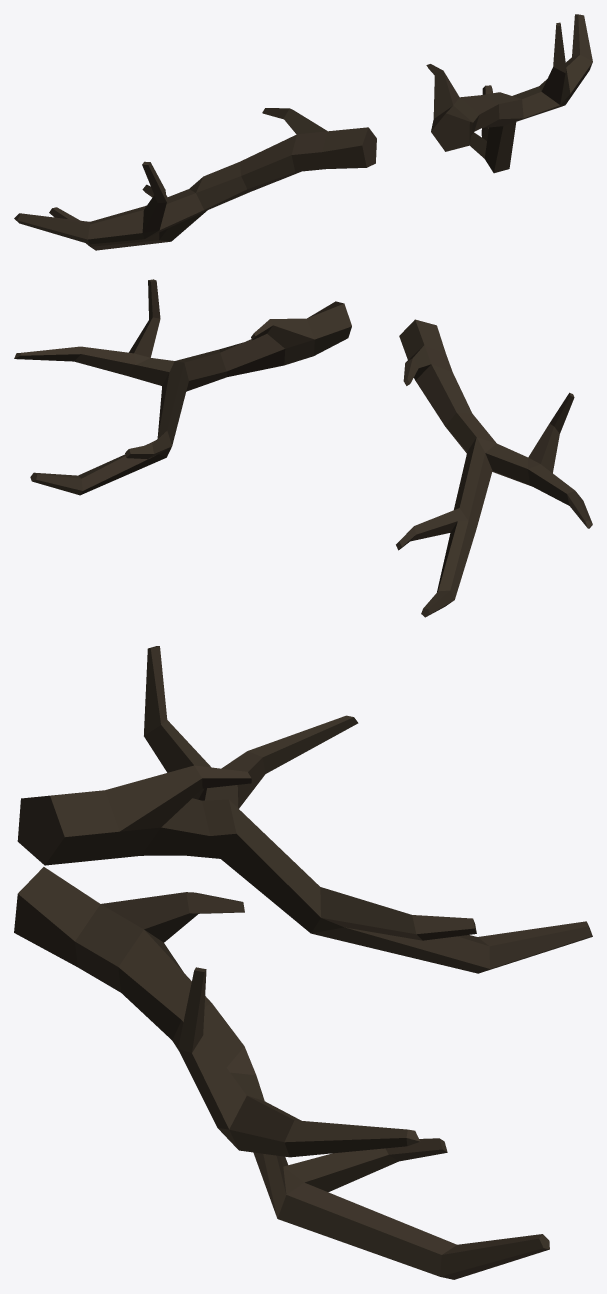
File: Horned_01.fbx
The picture shows the model from 3 angles, top to bottom: view 1: azimuth 30°, elevation 25°; view 2: azimuth 150°, elevation 25°; view 3: azimuth 270°, elevation 25°; orthographic projection. The views are drawn at different scales.
Visible parts, largest first — view 1: Horned_01; view 2: Horned_01; view 3: Horned_01.
Part boxes in pixels (x1,y1,x2,y2): Horned_01: (14,14,592,250); Horned_01: (14,279,592,617); Horned_01: (14,646,592,1279).
Bounding box in the file's own units: 9383 × 2914 × 4539.
